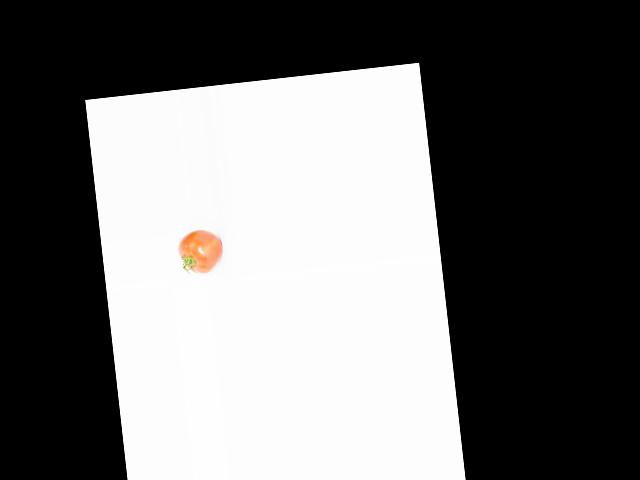tomato: (175, 227, 224, 275)
